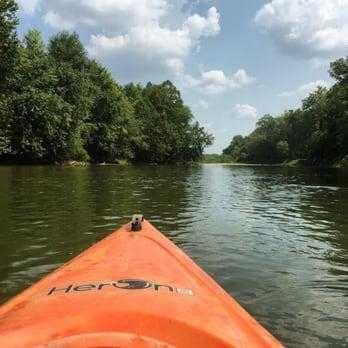kayak: (2, 213, 285, 347)
